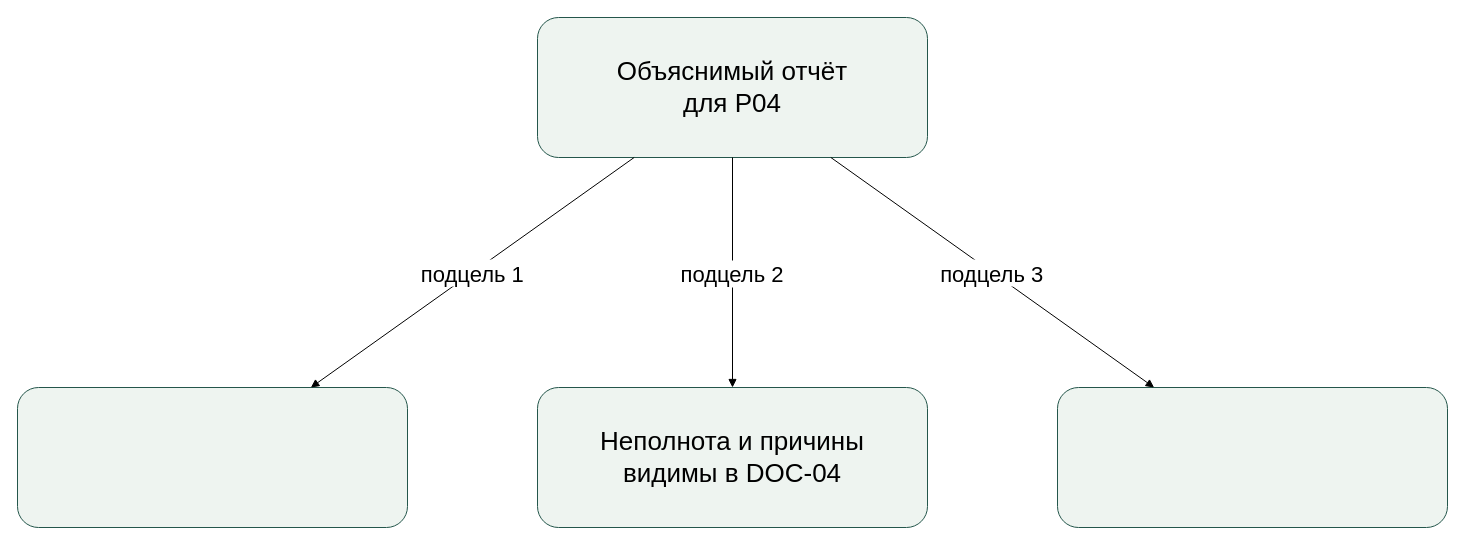
Some shapes in this 1465 by 545 pixel diagram are drawn without their labels. Each missing label, with the centre of its shape:
Активная подготовка не более 40 минут: point (1252, 457)
Один OP один вклад: point (212, 457)
